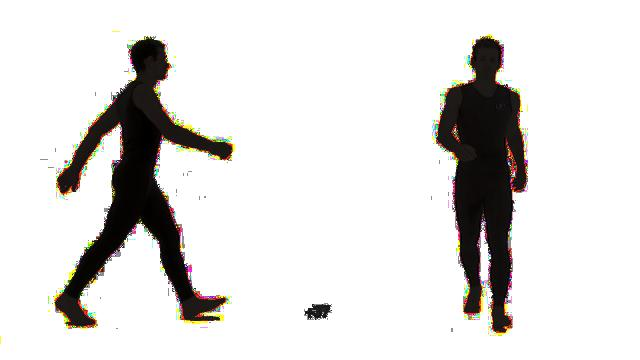berjalan: (47, 37, 233, 328), (425, 34, 529, 334)
